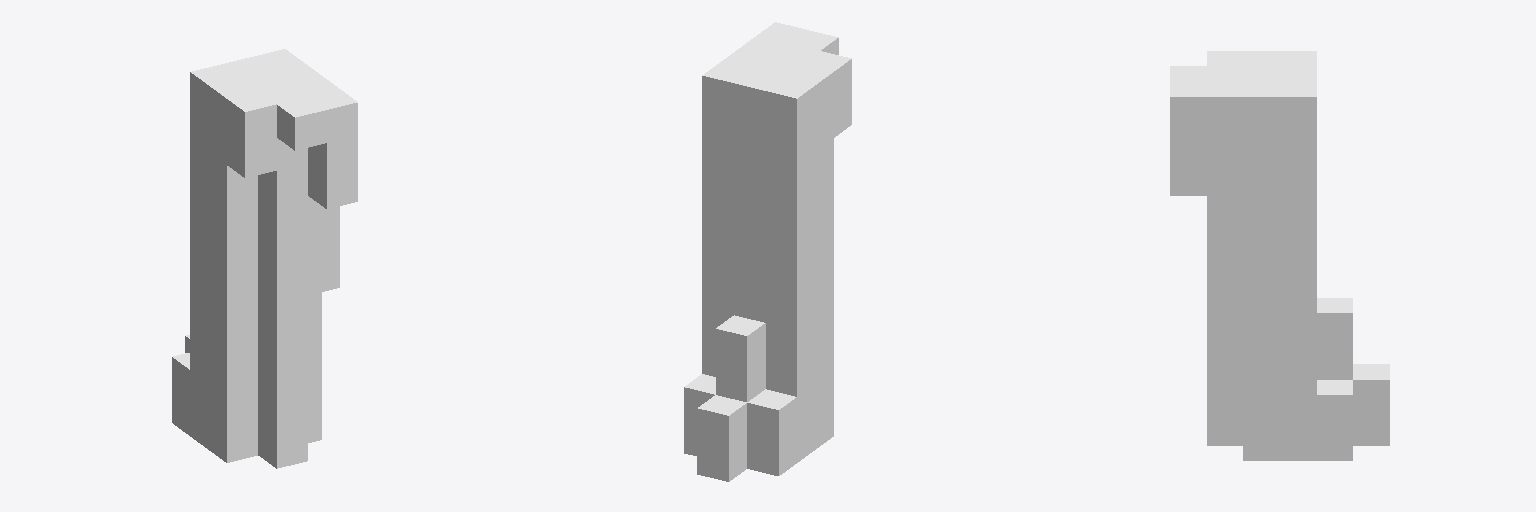
The model's file is Bernard_Leg_Back_Right_Lower.obj.
3 renders of one model, left to right at view 1: azimuth 30°, elevation 25°; view 2: azimuth 150°, elevation 25°; view 3: azimuth 270°, elevation 25°, orthographic.
Visible parts, largest first — view 1: Bernard; view 2: Bernard; view 3: Bernard.
Part boxes in pixels (bbox=[...]): Bernard: bbox=[172, 49, 357, 468]; Bernard: bbox=[684, 22, 851, 481]; Bernard: bbox=[1170, 51, 1389, 460].
Bounding box in the file's own units: 0.3 × 1.1 × 0.6.